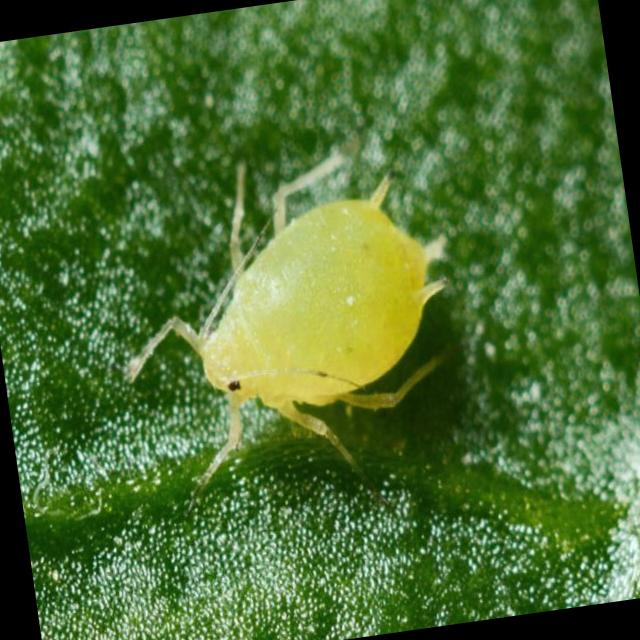aphid: (92, 148, 496, 506)
